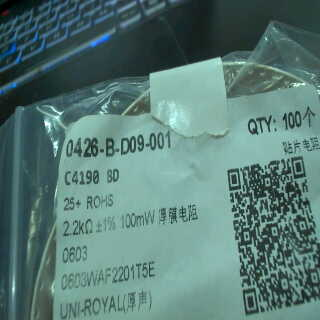2.2kR: (61, 219, 96, 237)
